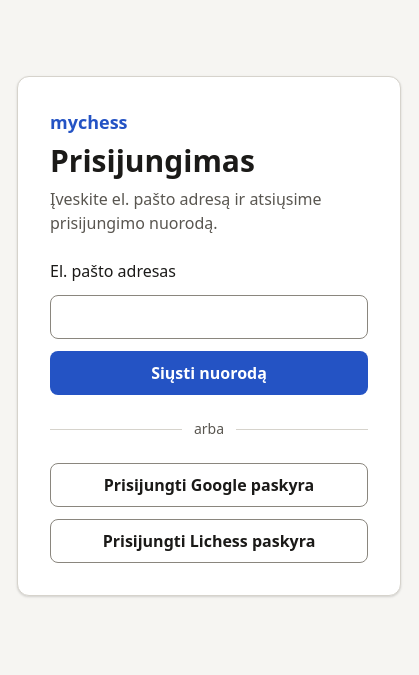
Test: SignInForm › mails a magic link to the email as typed, in the page language, then says to check the email
Type "Ruta@Example.lt" into the field labelled "El. pašto adresas". click: point(209, 317)
box: [50,295,368,339]
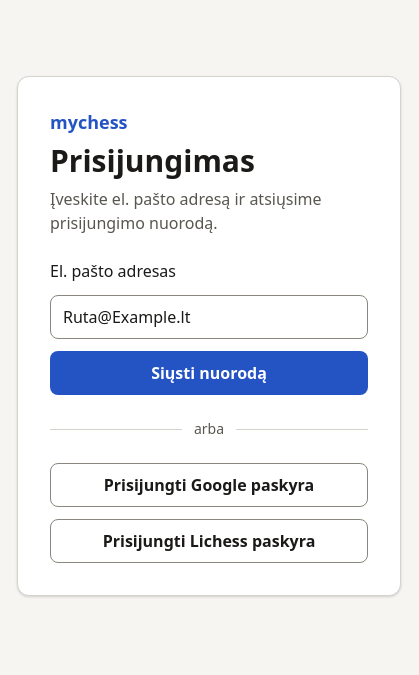
Click the button "Siųsti nuorodą". click: point(209, 373)
box: [50,351,368,395]
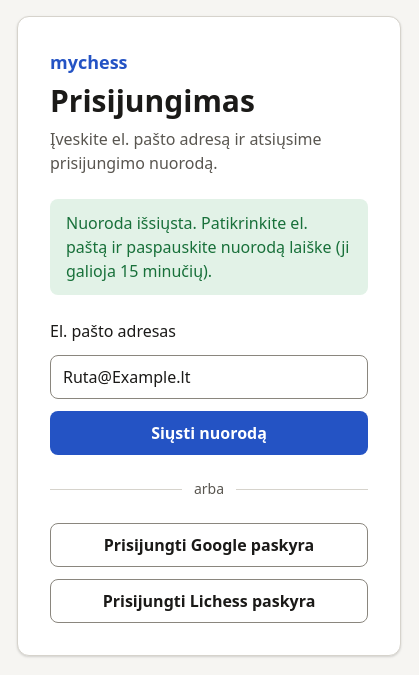
Expected: the message shows "Nuoroda išsiųsta. Patikrinkite el. paštą ir paspauskite nuorodą laiške (ji galioja 15 minučių).", [66,212,350,282]
